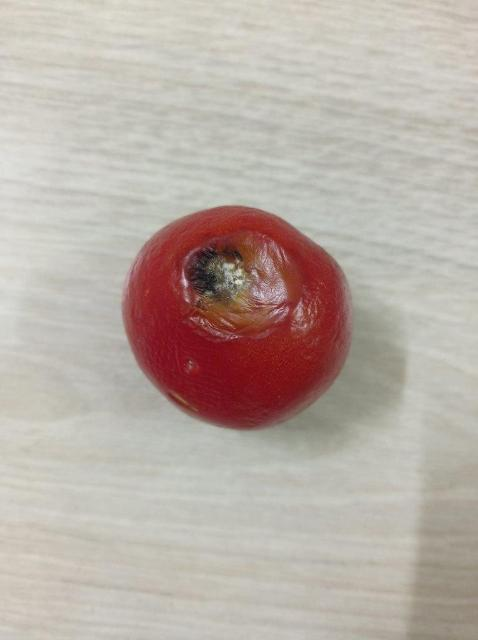defect: (118, 200, 363, 436)
